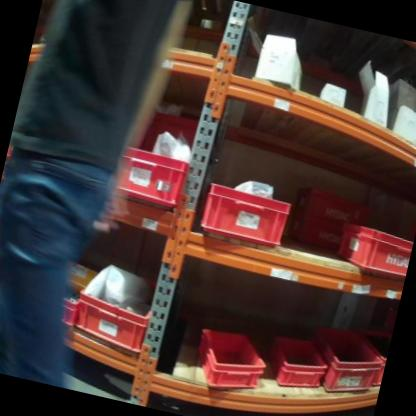small_load_carrier: (67, 255, 161, 353), (198, 181, 295, 251), (306, 321, 386, 404), (186, 320, 270, 395), (331, 216, 415, 283), (111, 142, 193, 205), (260, 330, 334, 397), (294, 183, 379, 230), (285, 211, 345, 255), (364, 335, 391, 386), (57, 287, 83, 331)
